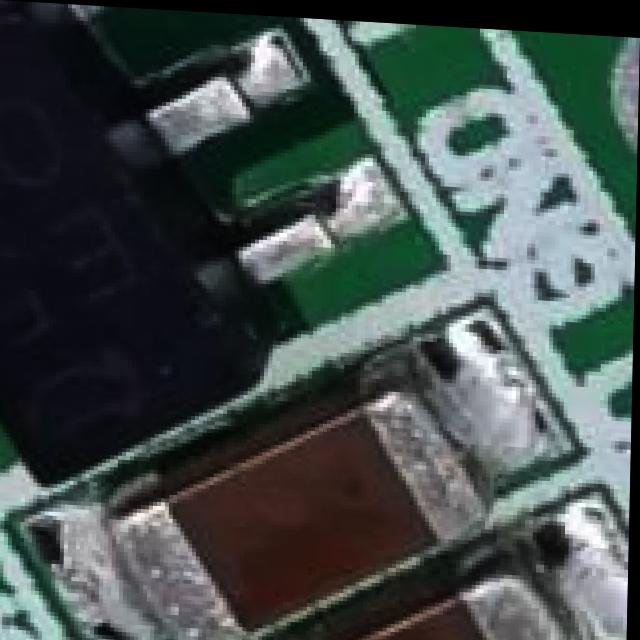IC: (0, 0, 391, 505)
capacitor: (55, 316, 529, 640), (265, 521, 616, 640)
